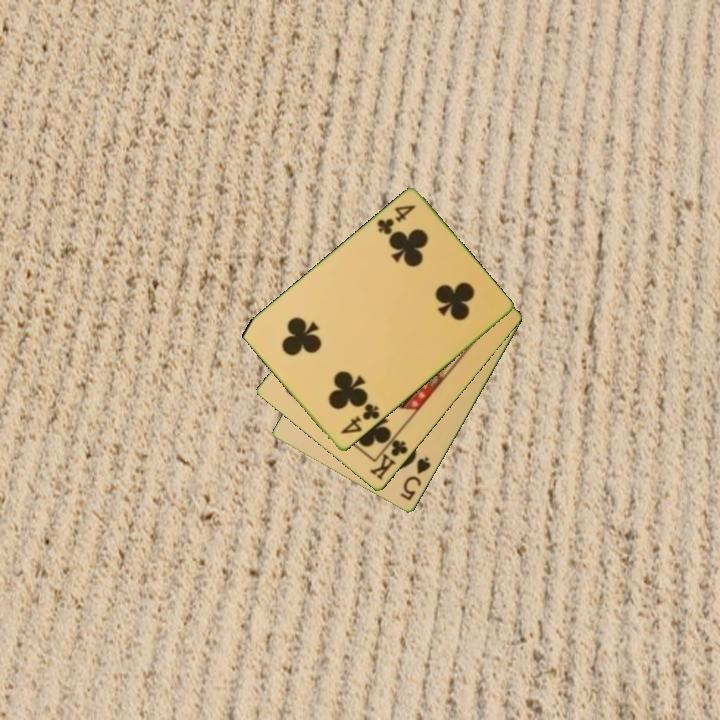4c: (337, 400, 383, 438), (373, 201, 418, 238)
5s: (396, 453, 434, 504)
Kc: (366, 430, 411, 484)
